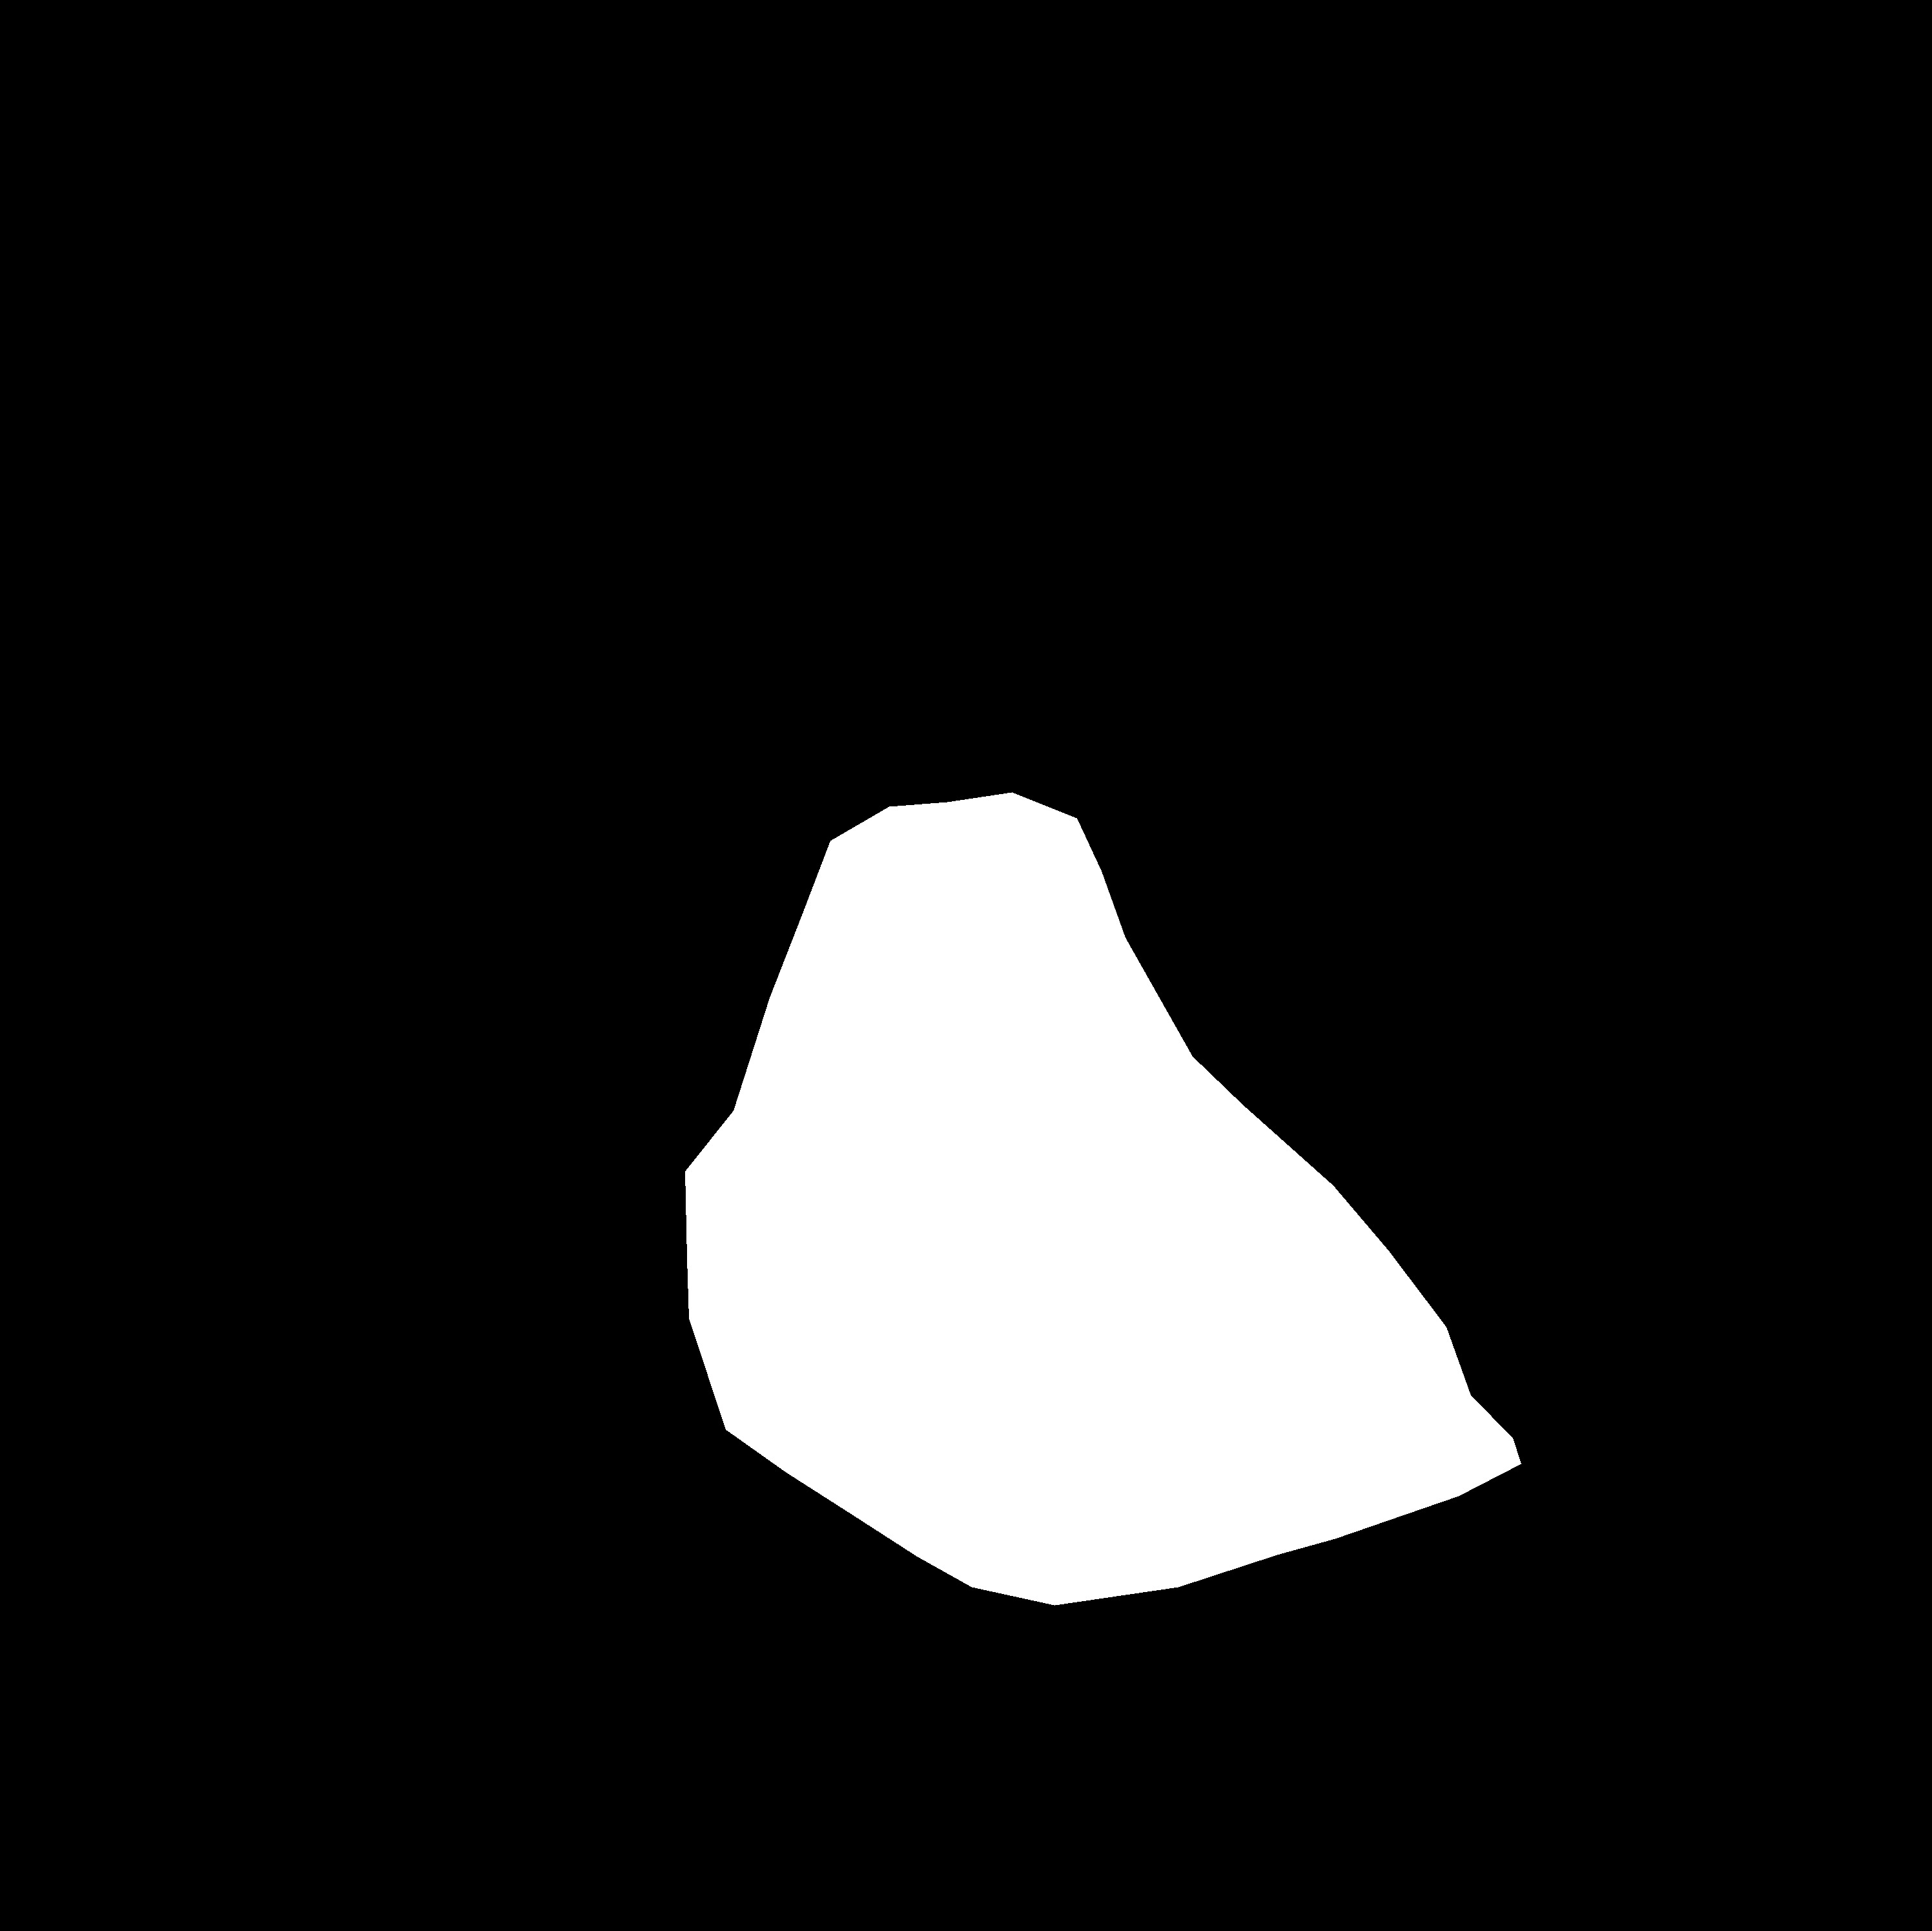heart: (685, 792, 1522, 1606)
left_lung: (53, 251, 835, 1685)
right_lung: (1028, 255, 1702, 1687)
